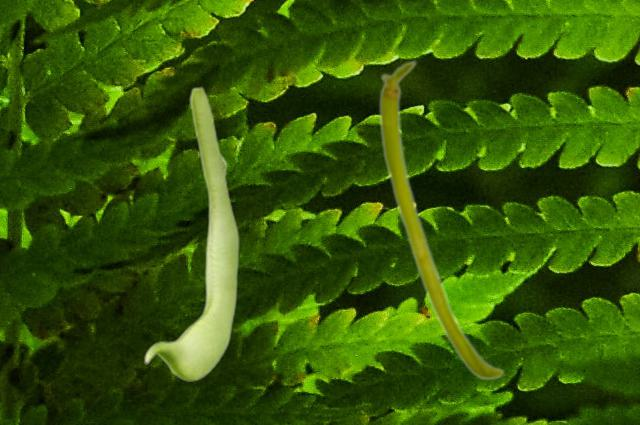french_bean: (378, 59, 504, 380), (143, 85, 238, 380)
